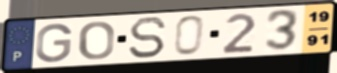0: (171, 14, 209, 58)
2: (222, 11, 259, 56)
3: (263, 8, 301, 54)
G: (34, 22, 75, 64)
O: (77, 20, 117, 62)
S: (127, 15, 169, 60)
